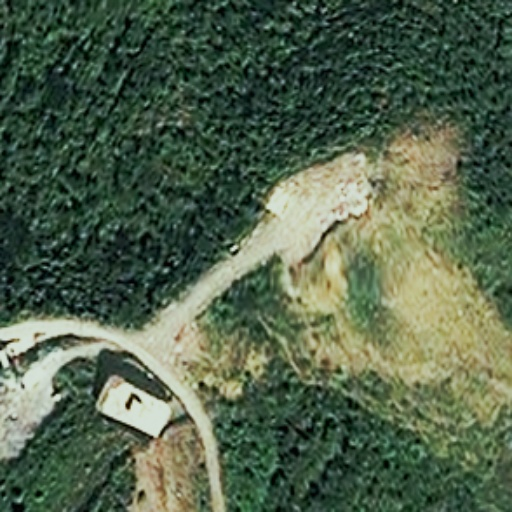landslide: (208, 125, 510, 439)
